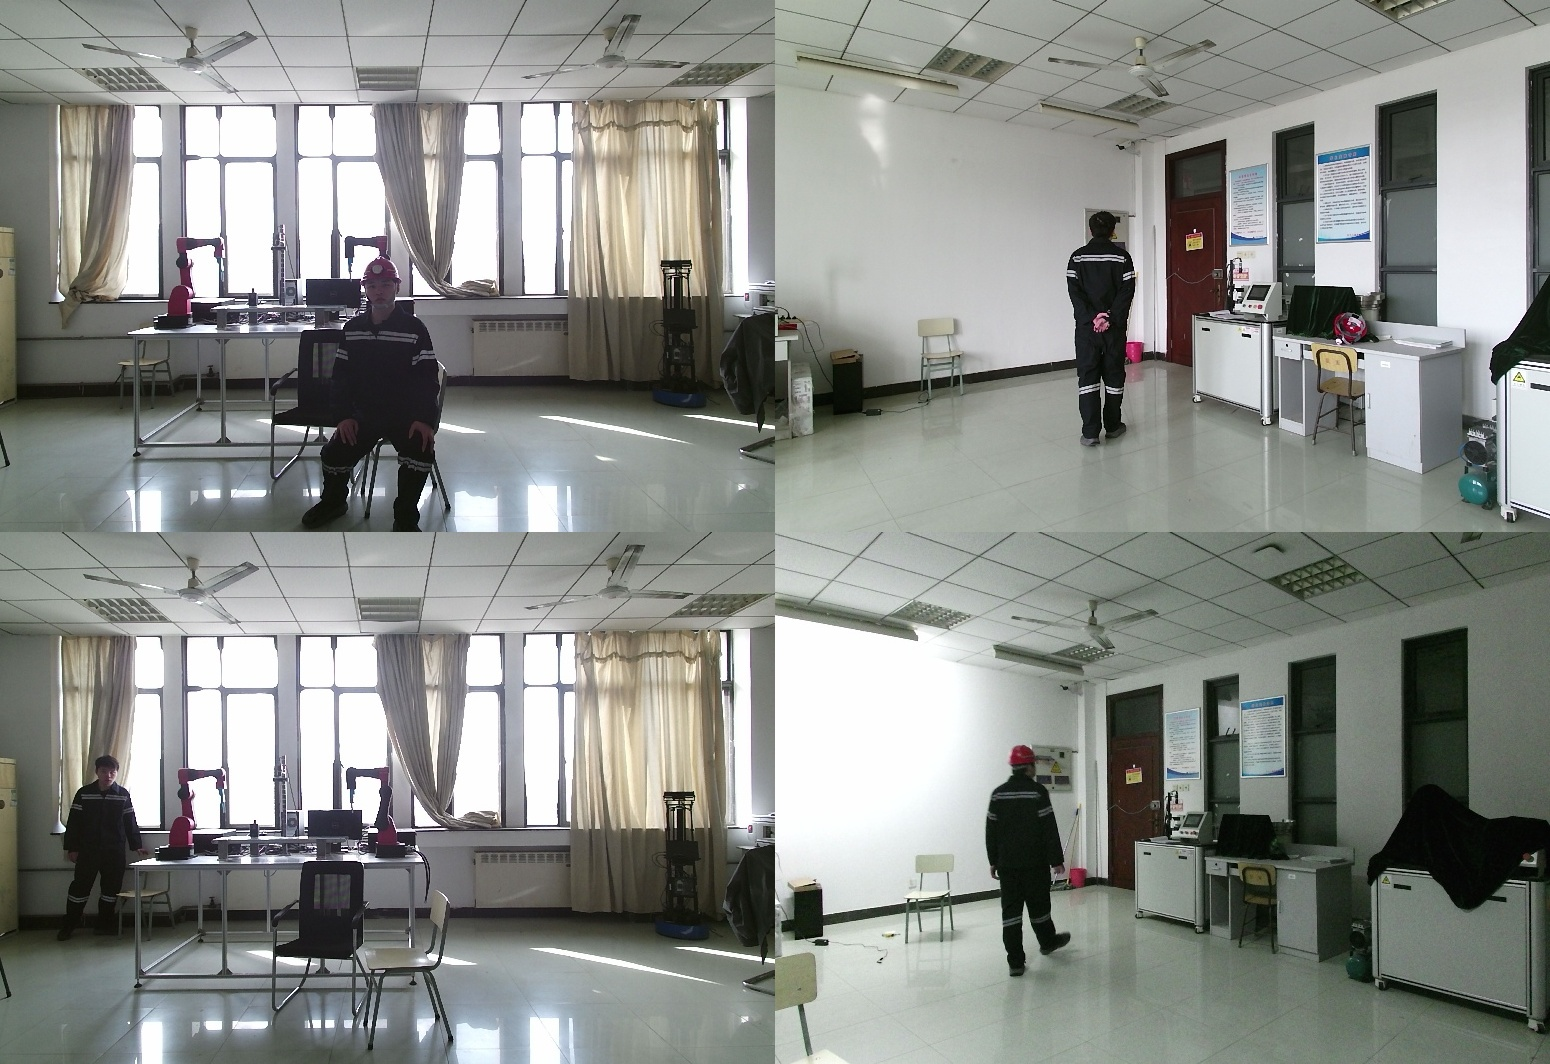person: (305, 257, 455, 532), (976, 744, 1073, 979), (1062, 211, 1144, 450), (59, 756, 146, 941)
